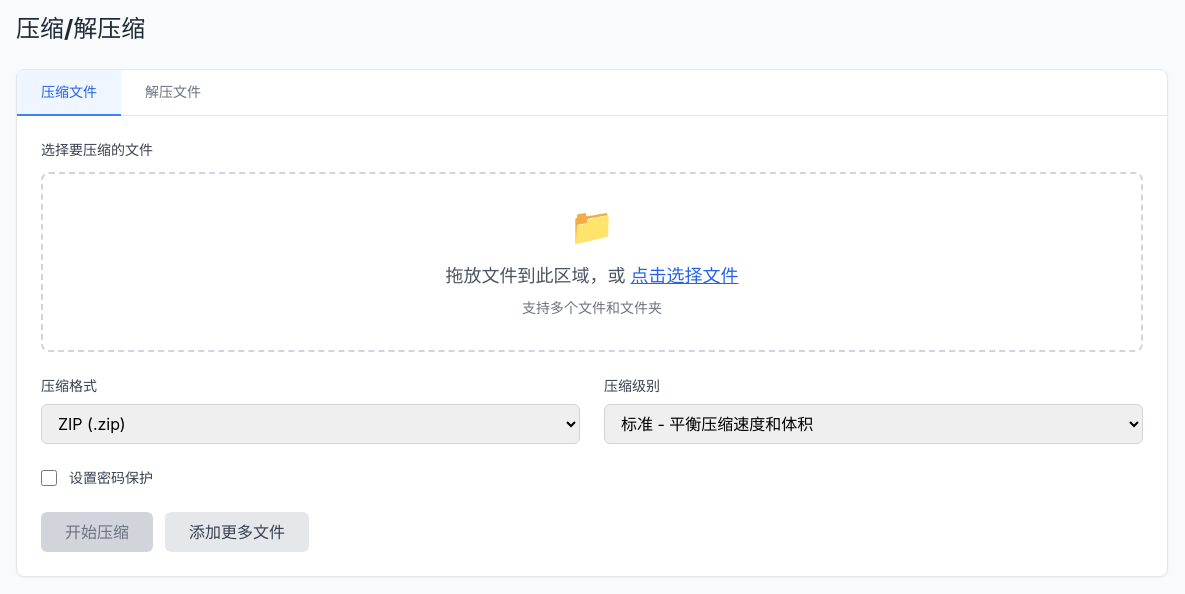
it: CompressTool Component › Tab Navigation › should switch between compress and decompress tabs
The image size is (1185, 594).
Click the tab "解压文件" at (173, 93), box [121,70,225,116]
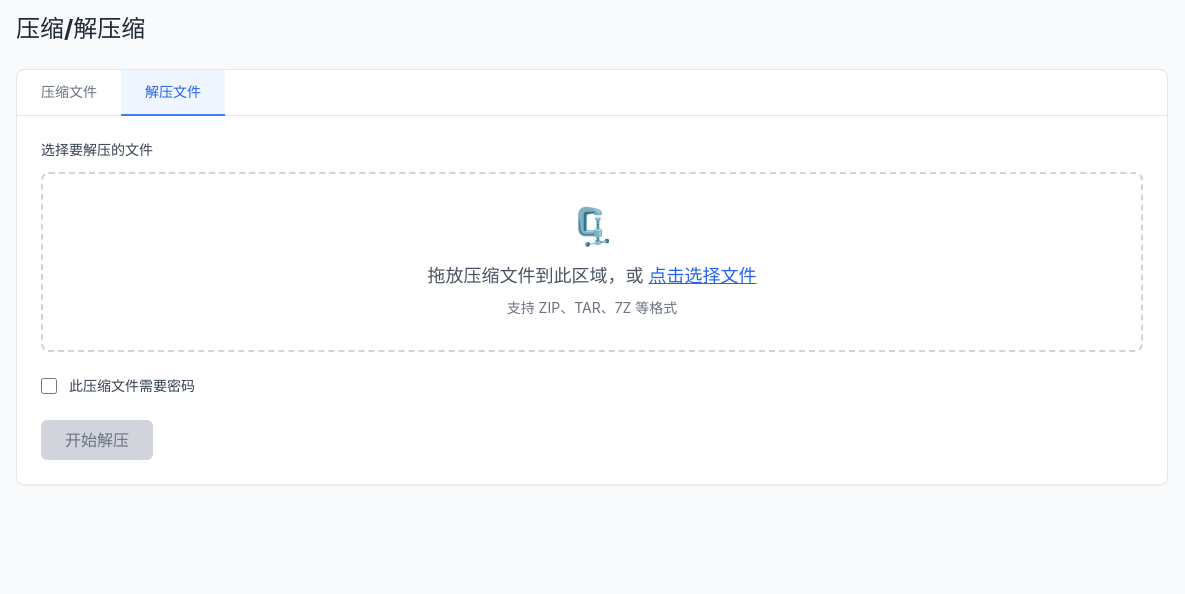
expect the panel with id "decompress-panel" is shown: met
expect the panel with id "compress-panel" is gone: met
